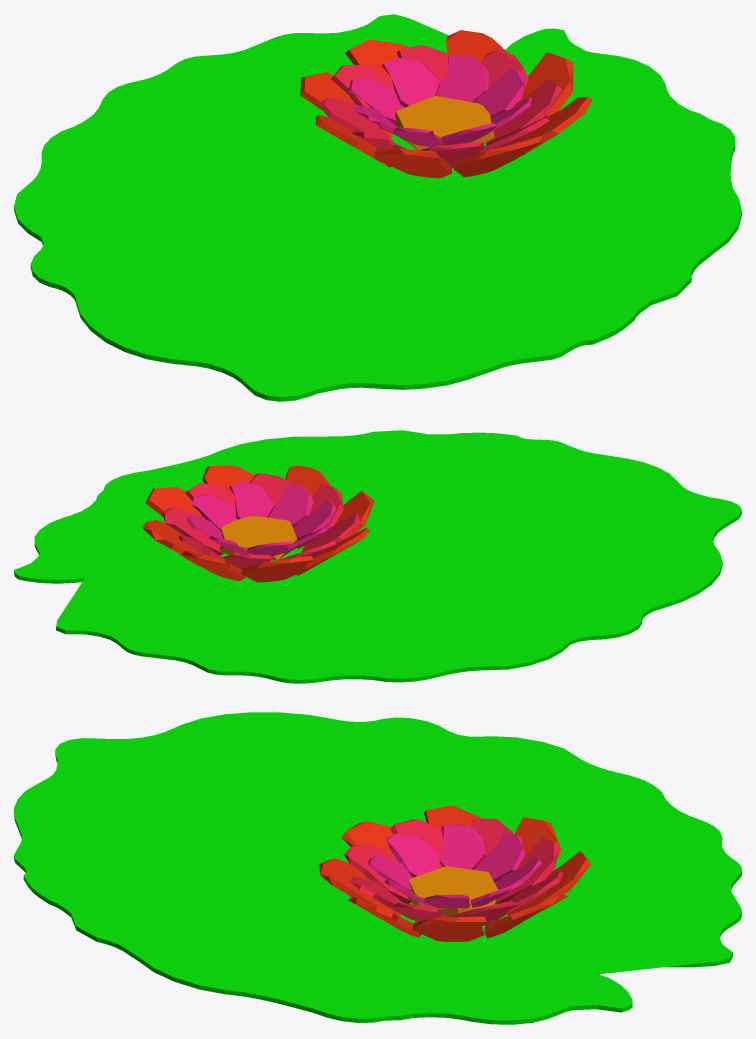
Rendered from lokvanj 2.fbx.
3 renders of one model, top to bottom at view 1: azimuth 30°, elevation 25°; view 2: azimuth 150°, elevation 25°; view 3: azimuth 270°, elevation 25°, orthographic. The views are drawn at different scales.
Parts seen in each view (by area): view 1: Cylinder.025; view 2: Cylinder.025; view 3: Cylinder.025.
Boxes of the visible parts, box(x1,y1,x2,y2) form: Cylinder.025: box(14, 14, 741, 401); Cylinder.025: box(14, 430, 741, 683); Cylinder.025: box(14, 712, 741, 1024).
Bounding box in the file's own units: 406 × 37.11 × 405.
